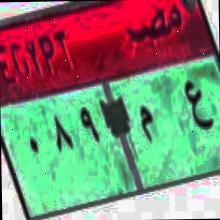0: (25, 118, 42, 172)
8: (52, 109, 73, 168)
9: (77, 102, 100, 152)
ain: (180, 67, 215, 138)
meem: (134, 100, 156, 156)
